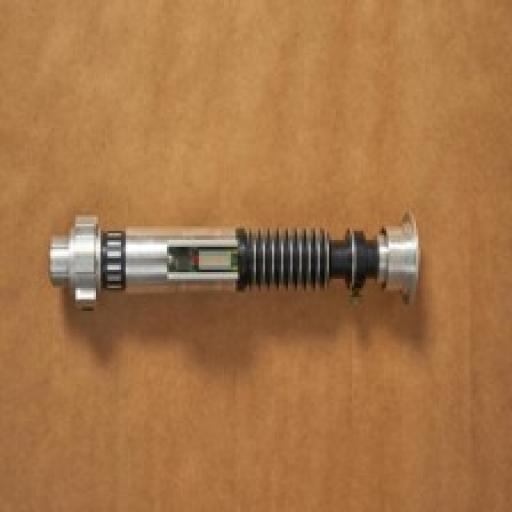lightsaber: (41, 206, 432, 316)
